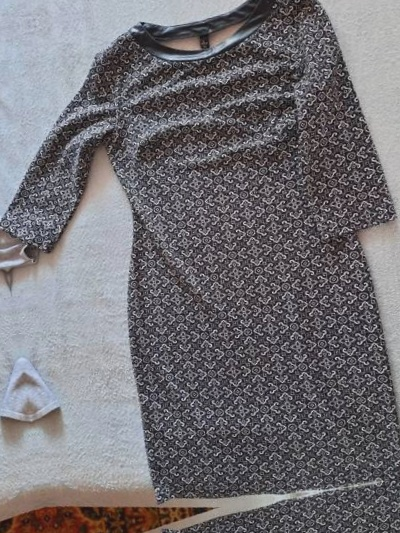Dress: (0, 0, 400, 530), (78, 475, 400, 533), (0, 48, 21, 533), (0, 0, 351, 18)
